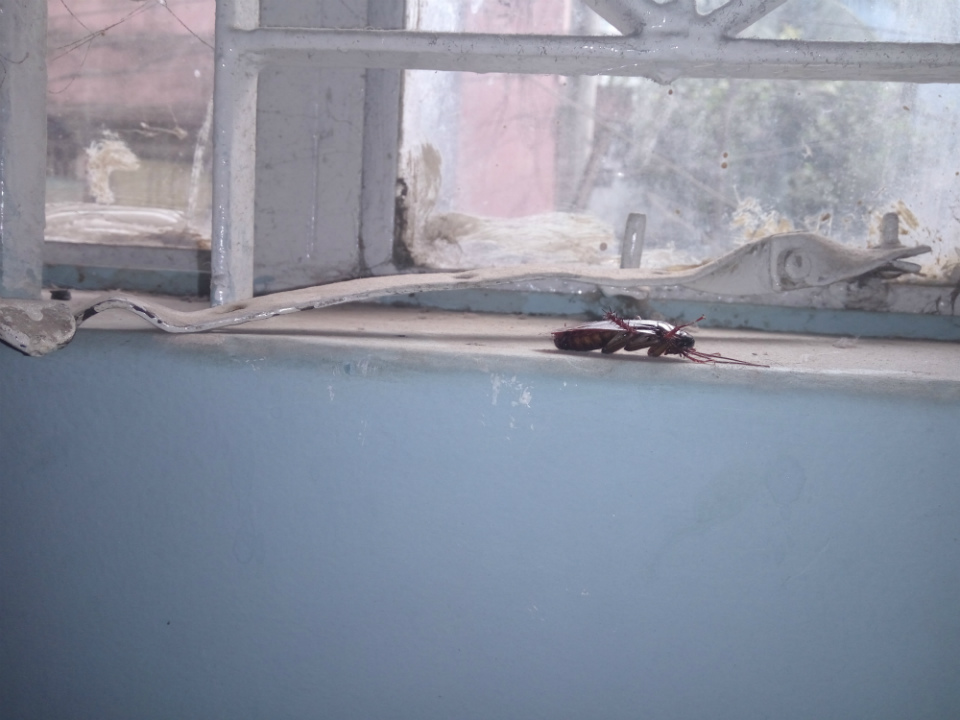cockroach: (479, 295, 727, 379)
